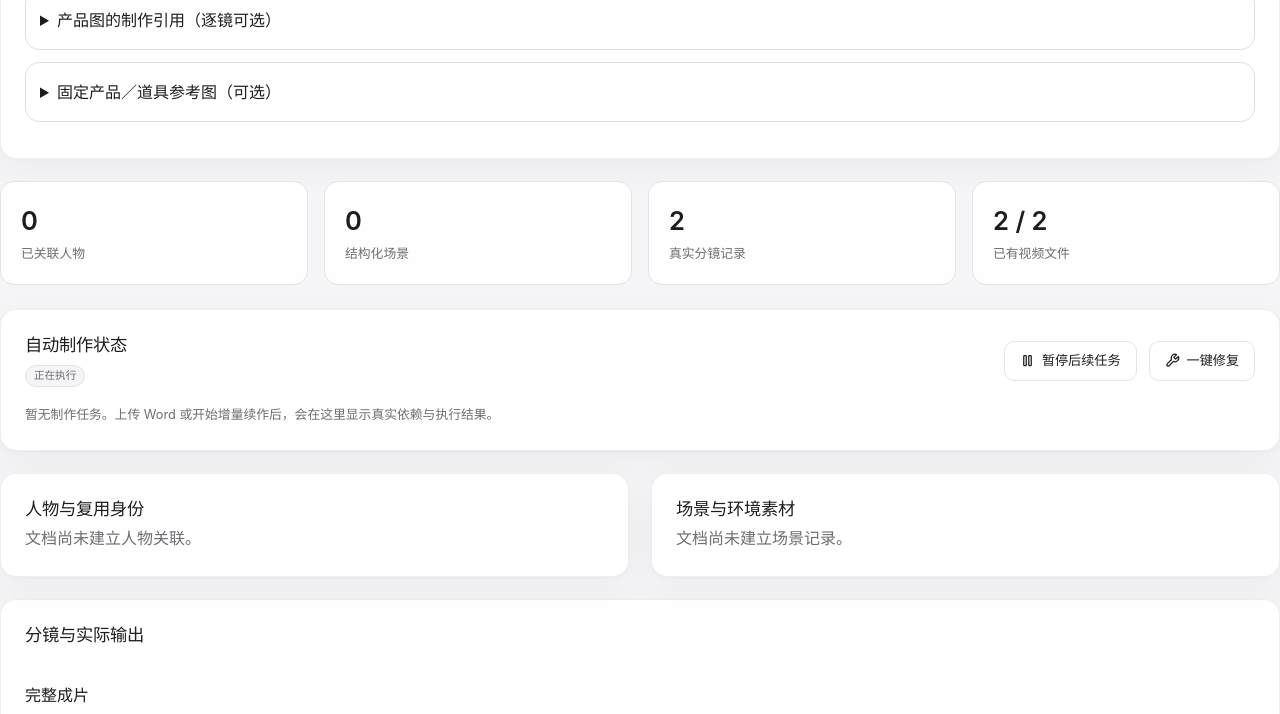
it: Studio UI contracts › places one-click repair beside pause and reports real diagnosis and repair evidence
The image size is (1280, 714).
(page scrolled)
Expected: the element "一键修复" is shown, [1004, 341, 1255, 381]
Expected: the button "暂停后续任务" is shown, [1004, 341, 1137, 381]
What coordinates should you click on to do the following:
click the button "一键修复"
I would click on:
 (1202, 361)
Its box is [1148, 341, 1255, 381].
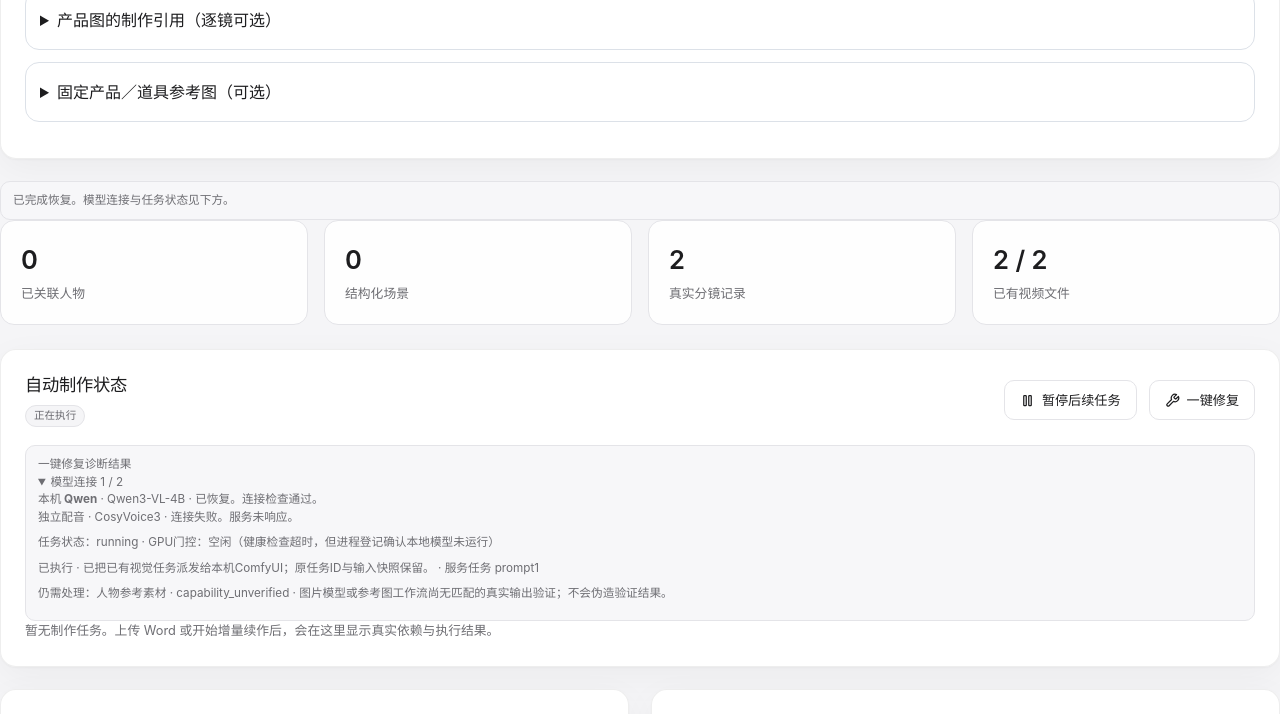
Result: the text "一键修复诊断结果" is shown at [38, 457, 131, 471]
Result: the text "一键修复诊断结果" shows "prompt1" at [435, 561, 539, 575]
Result: the text "一键修复诊断结果" shows "capability_unverified" at [176, 586, 289, 600]
